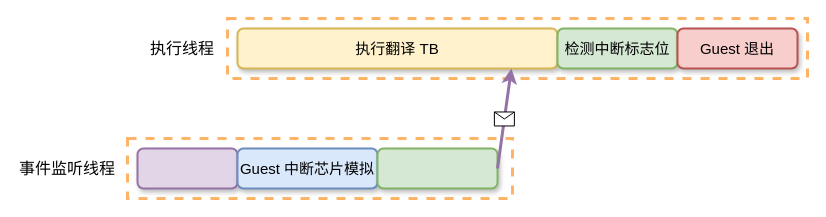
Some shapes in this 826 by 217 pixel diagram are drawn without their labels. Here are the shapes that lost their labels. From the top down, the centre of each, then its label:
(188,169): epoll
(438,169): 设置中断标志位
